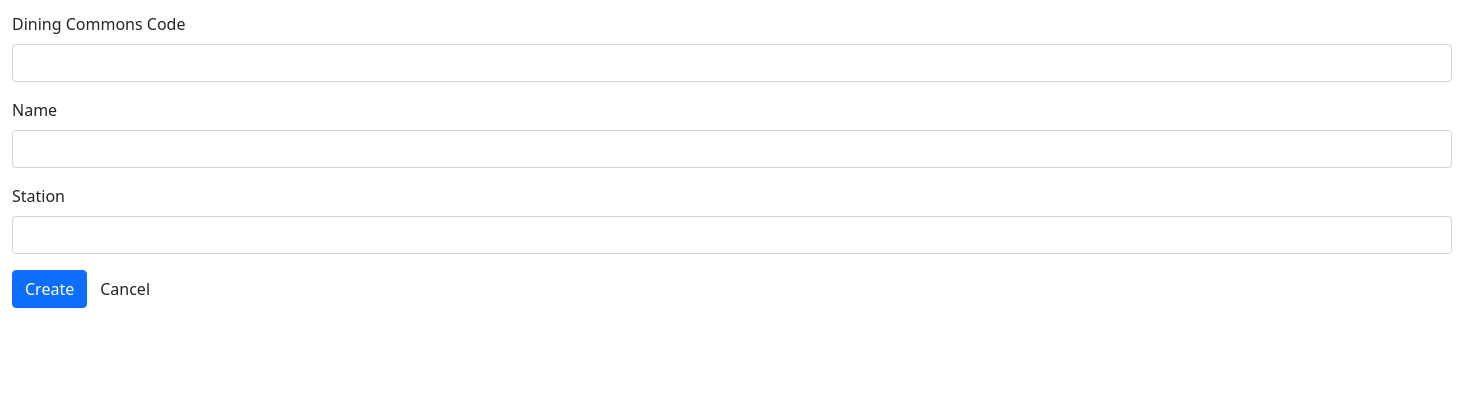
Test case: MenuItemForm tests › Correct Error messsages on missing input
This screenshot has width=1464, height=400.
Click the button with test id "MenuItemForm-submit".
click(50, 289)  # box [12,270,87,308]
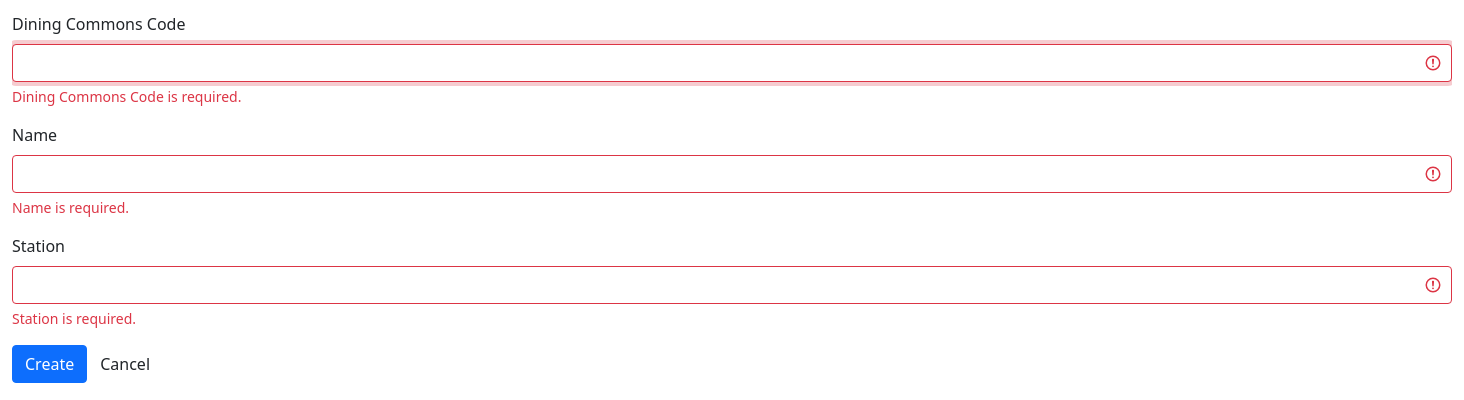
Expected: the text "Dining Commons Code is required." is shown, [12,87,241,106]
Expected: the text "Name is required." is shown, [12,198,129,217]
Expected: the text "Station is required." is shown, [12,309,136,328]
